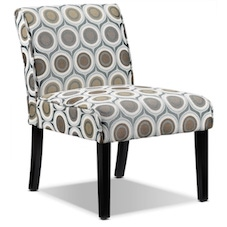chair: (6, 3, 218, 212)
